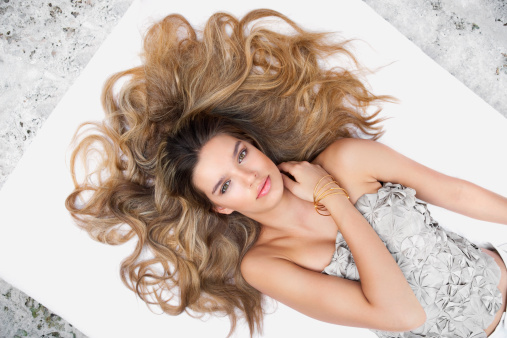deitado: (44, 52, 498, 338)
